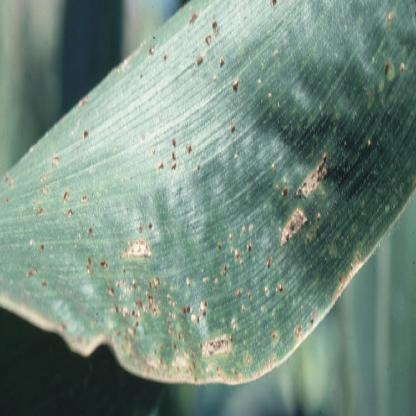corn rust leaf: (1, 1, 415, 403)
